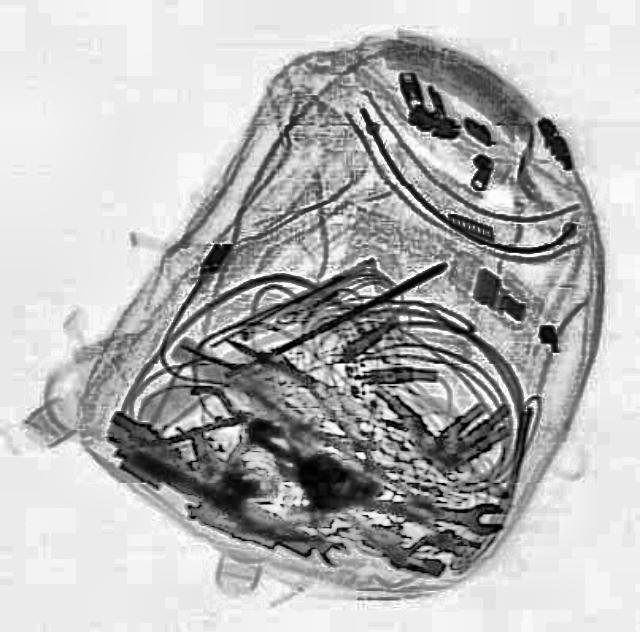Pliers: (154, 382, 252, 444)
Wrench: (208, 476, 349, 570), (380, 486, 506, 538)
